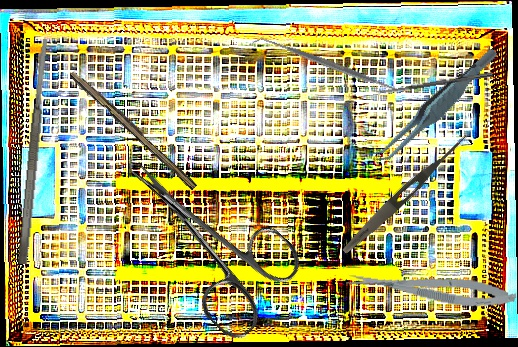Dressing Forceps: (339, 129, 471, 258)
Iris Scissors: (93, 127, 314, 346)
Micro Scissor: (344, 262, 518, 314)
Scalpel Handle: (67, 68, 201, 191)
Spatula Surgical: (251, 27, 410, 103), (15, 38, 53, 265)
Surgical Spoon: (372, 71, 494, 96)
Tissue Forceps: (353, 46, 516, 168)
